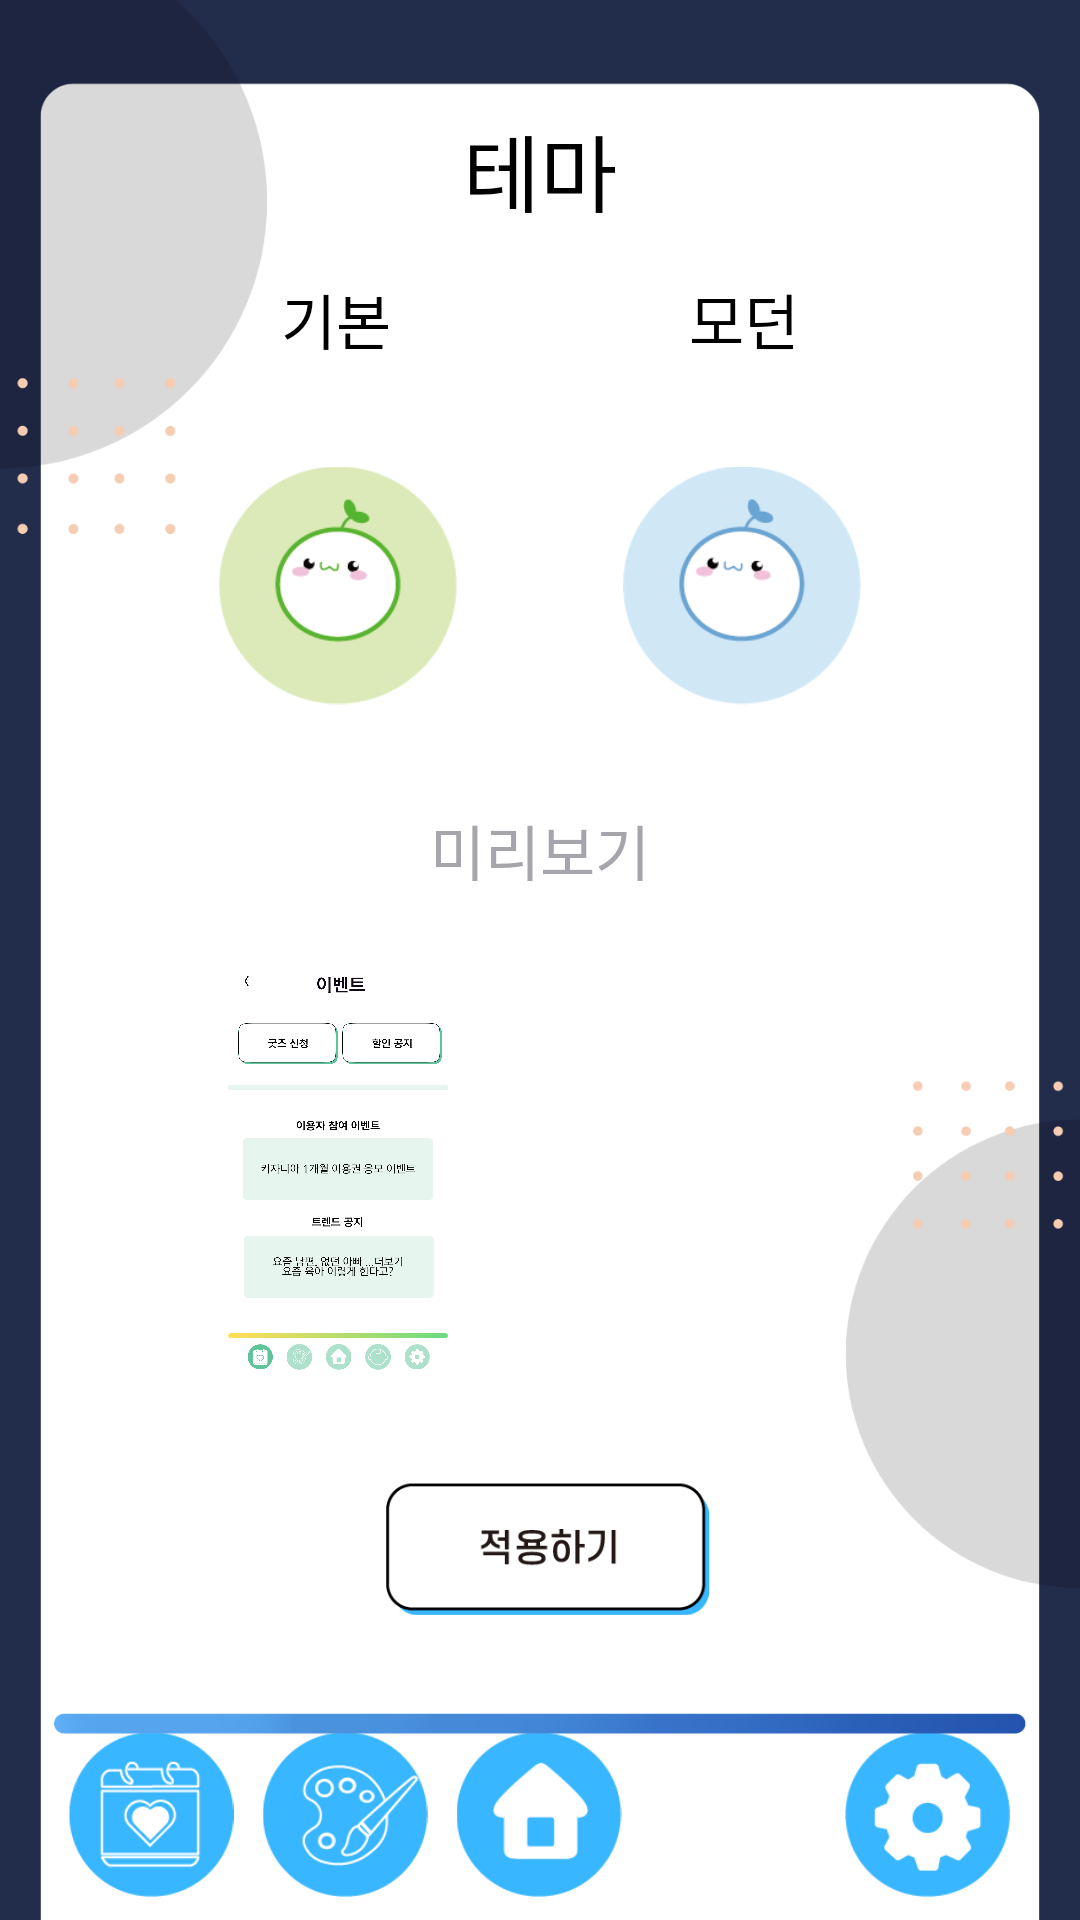

Locate icon controls on the screen. Image size 1080px×1920px, boxes as (x1, y1, x2, y2).
dad event: (59, 1732, 248, 1897)
dad home: (442, 1732, 636, 1897)
dad setting: (830, 1732, 1021, 1897)
dad theme: (248, 1732, 442, 1897)
